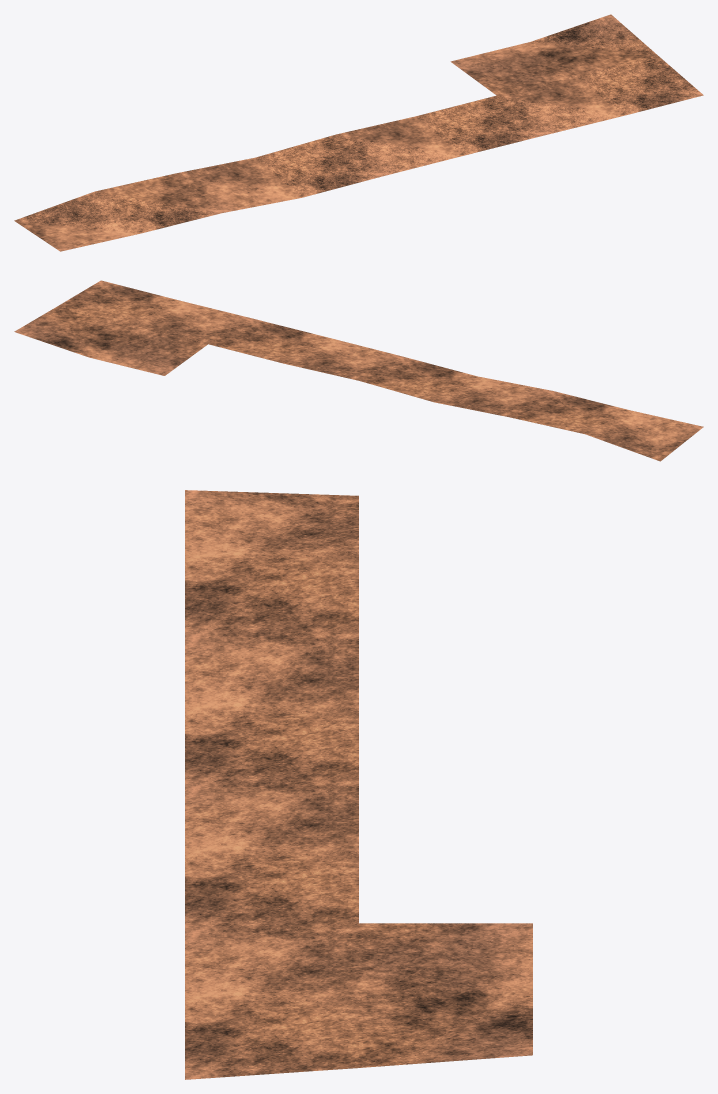
Rendered from terrain_13_20.dae.
The picture shows the model from 3 angles, top to bottom: view 1: azimuth 30°, elevation 25°; view 2: azimuth 150°, elevation 25°; view 3: azimuth 270°, elevation 25°; orthographic projection. The views are drawn at different scales.
Visible parts, largest first — view 1: terrain_13_20-node; view 2: terrain_13_20-node; view 3: terrain_13_20-node.
Boxes of the visible parts, x1,y1,x2,y2 form: terrain_13_20-node: (14,14,703,251); terrain_13_20-node: (14,280,703,461); terrain_13_20-node: (185,490,532,1079).
Bounding box in the file's own units: 32 × 8 × 0.8293.
Materials: 1 (1 with a texture image).
